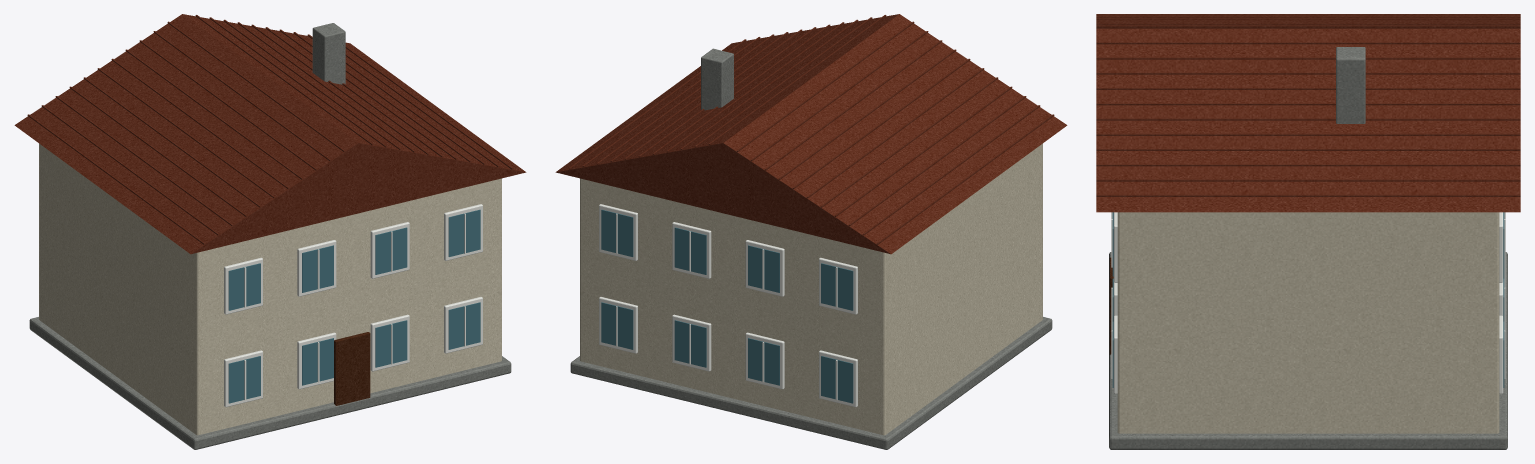
Rendered from House_Stucco_LOD0.glb.
3 views of the same model, side by side, from view 1: azimuth 30°, elevation 25°; view 2: azimuth 150°, elevation 25°; view 3: azimuth 270°, elevation 25° (orthographic). The views are drawn at different scales.
Parts seen in each view (by area): view 1: House_Stucco_export; view 2: House_Stucco_export; view 3: House_Stucco_export.
Part boxes in pixels (box(x1,y1,x2,y2)): House_Stucco_export: box(14, 14, 526, 449); House_Stucco_export: box(555, 14, 1067, 449); House_Stucco_export: box(1096, 14, 1520, 449).
Bounding box in the file's own units: 11 × 9.1 × 10.
6 materials, 4 textured.
